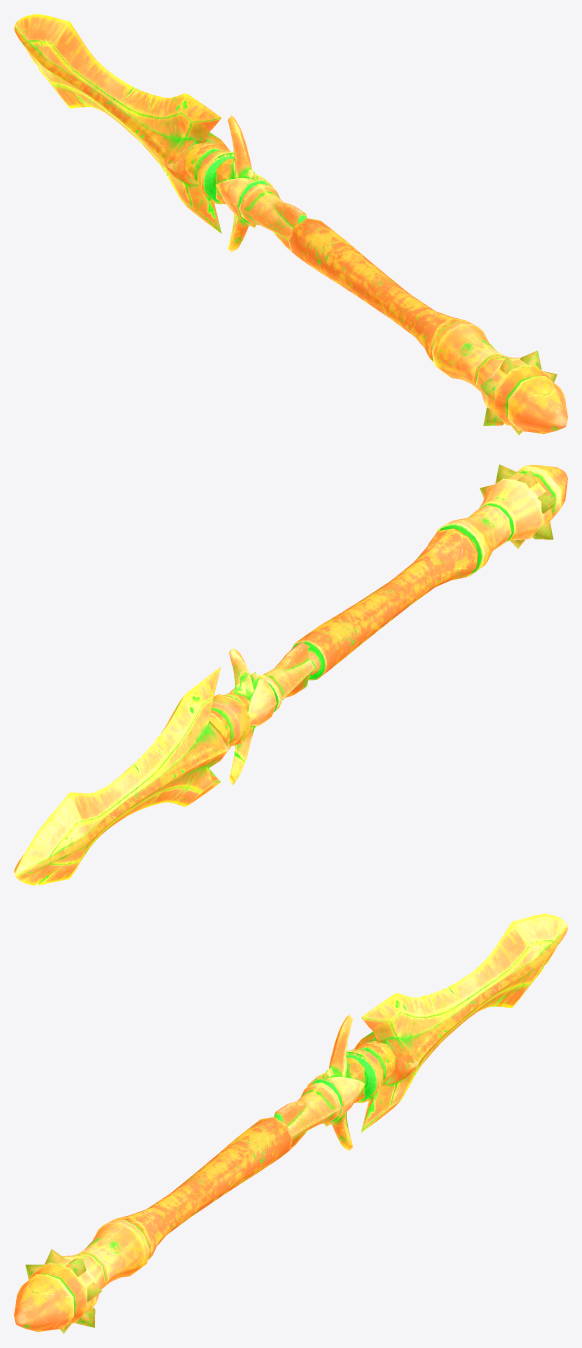
File: UndeadChamp_Spear.FBX
The picture shows the model from 3 angles, top to bottom: view 1: azimuth 30°, elevation 25°; view 2: azimuth 150°, elevation 25°; view 3: azimuth 330°, elevation 25°; orthographic projection.
Visible parts, largest first — view 1: UndeadChamp_Spear; view 2: UndeadChamp_Spear; view 3: UndeadChamp_Spear.
Boxes of the visible parts, x1,y1,x2,y2 form: UndeadChamp_Spear: [14, 14, 567, 435]; UndeadChamp_Spear: [14, 464, 567, 885]; UndeadChamp_Spear: [14, 914, 567, 1333].
Size of the model in its own units: 38.02 by 64.7 by 470.
1 material, 1 textured.
